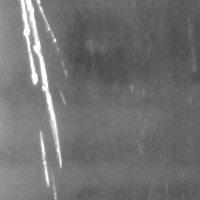scratches: (19, 1, 68, 171), (35, 121, 58, 200)
